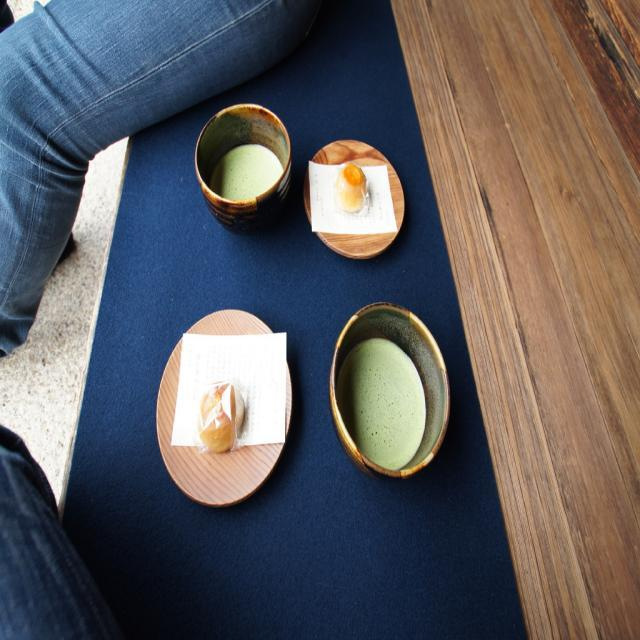ceramic plate: (134, 314, 294, 512)
